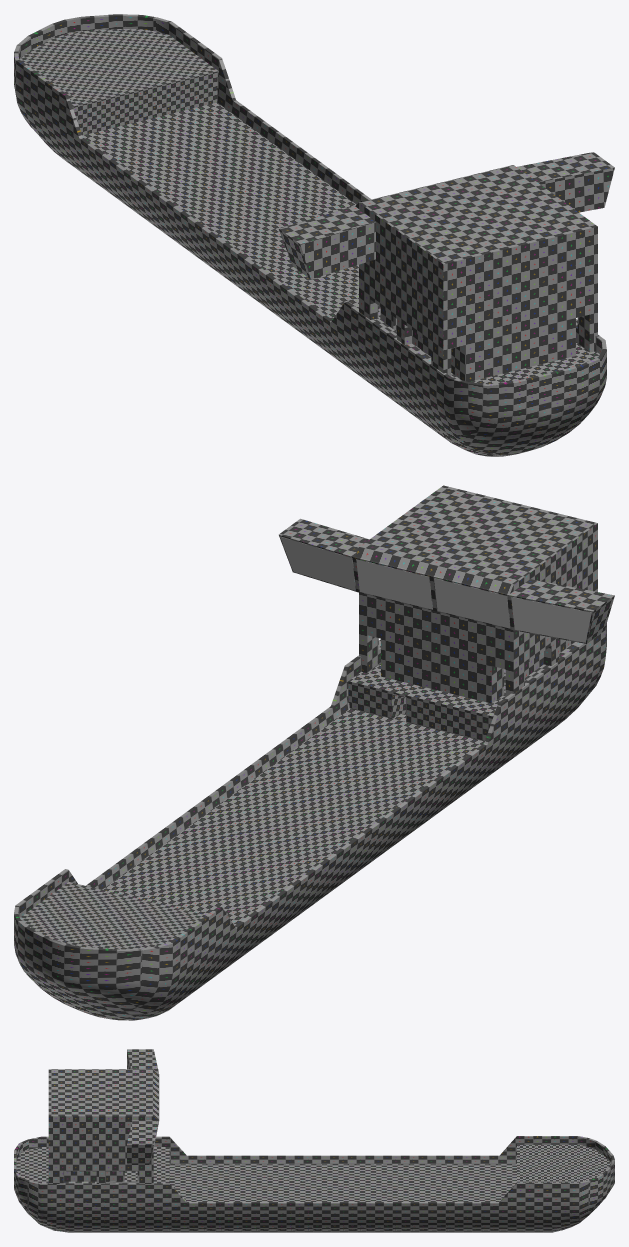
File: ship.gltf
3 renders of one model, top to bottom at view 1: azimuth 30°, elevation 25°; view 2: azimuth 150°, elevation 25°; view 3: azimuth 270°, elevation 25°, orthographic. The views are drawn at different scales.
Parts seen in each view (by area): view 1: bridge-col, hull-col, top_deck-convcol, bow-col, rear-deck-col; view 2: bridge-col, hull-col, top_deck-convcol, bow-col, rear-deck-col; view 3: hull-col, bridge-col, top_deck-convcol, bow-col, rear-deck-col.
Boxes of the visible parts, x1=… form: bridge-col: x1=279, y1=152, x2=614, y2=381; hull-col: x1=14, y1=14, x2=606, y2=456; top_deck-convcol: x1=82, y1=102, x2=380, y2=319; bow-col: x1=20, y1=29, x2=218, y2=135; rear-deck-col: x1=378, y1=308, x2=599, y2=384; bridge-col: x1=279, y1=485, x2=614, y2=703; hull-col: x1=14, y1=623, x2=606, y2=1020; top_deck-convcol: x1=102, y1=708, x2=484, y2=925; bow-col: x1=20, y1=882, x2=205, y2=949; rear-deck-col: x1=348, y1=663, x2=505, y2=741; hull-col: x1=14, y1=1136, x2=614, y2=1232; bridge-col: x1=48, y1=1049, x2=159, y2=1183; top_deck-convcol: x1=169, y1=1164, x2=516, y2=1201; bow-col: x1=517, y1=1144, x2=610, y2=1182; rear-deck-col: x1=16, y1=1147, x2=169, y2=1183.
Size of the model in its own units: 45.27 by 29.65 by 120.
7 materials, 6 textured.
